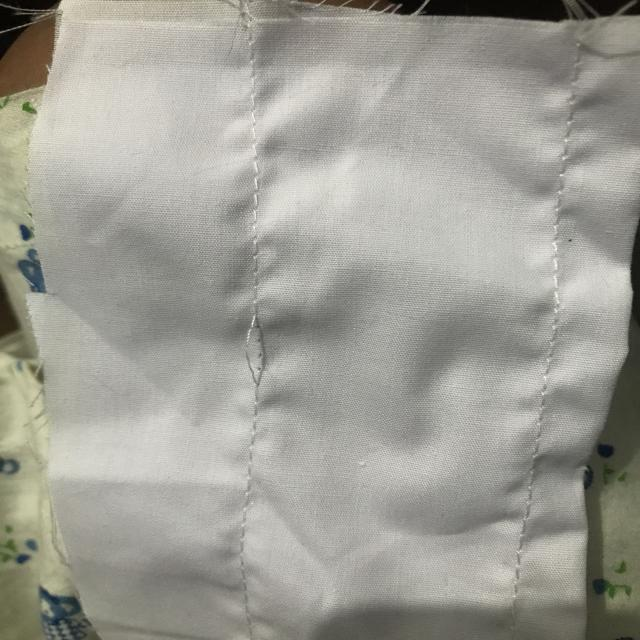good: (243, 190, 276, 273)
skip: (229, 300, 278, 404)
